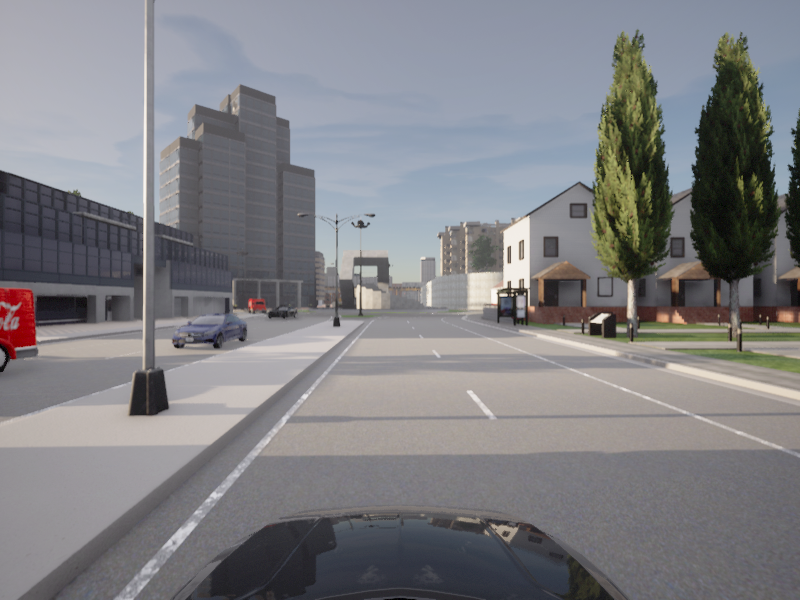vehicle: (0, 276, 44, 425), (166, 311, 252, 351), (264, 304, 300, 320)
